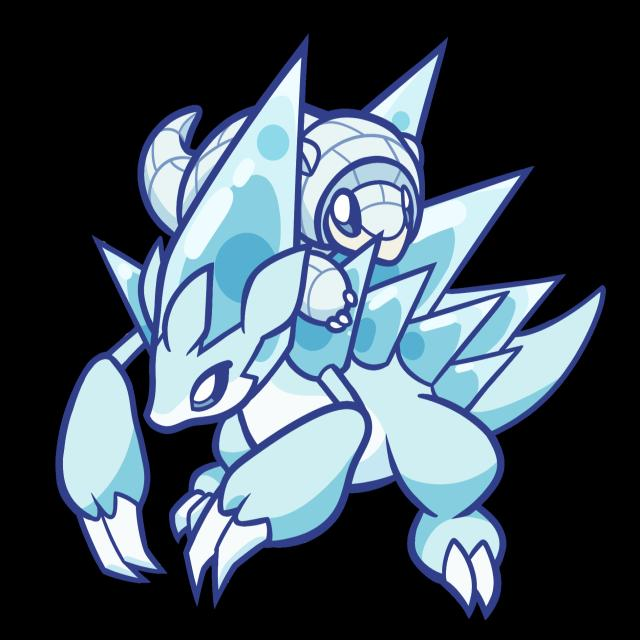Alolan: (57, 59, 529, 606)
